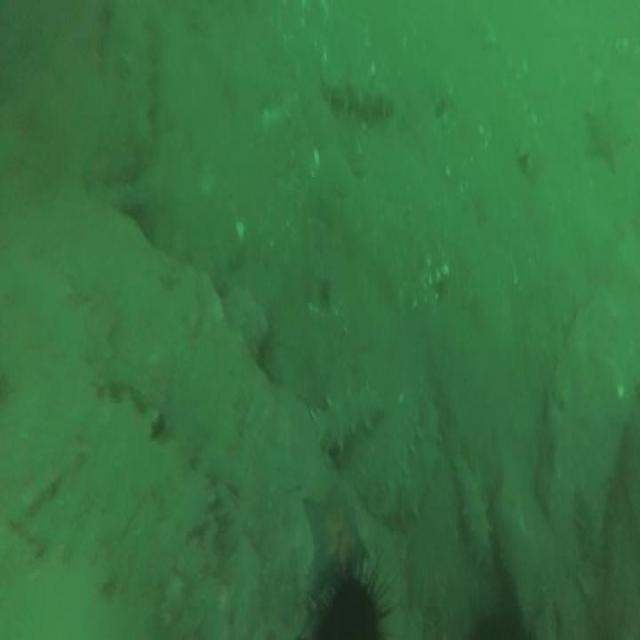echinus: (297, 545, 400, 640)
holothurian: (300, 373, 393, 449), (449, 444, 497, 577), (573, 479, 616, 616), (118, 14, 159, 150), (318, 66, 398, 128)
starfish: (302, 474, 374, 590), (581, 95, 634, 177)
